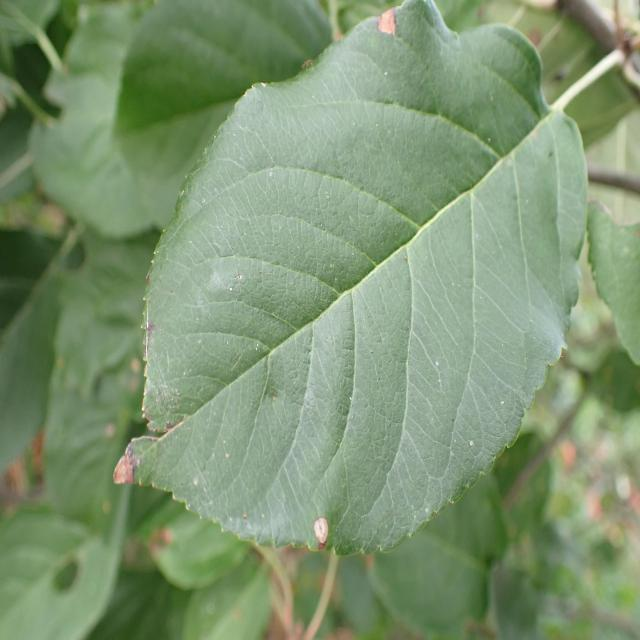Black Rot: (295, 486, 347, 572), (362, 3, 406, 53)
